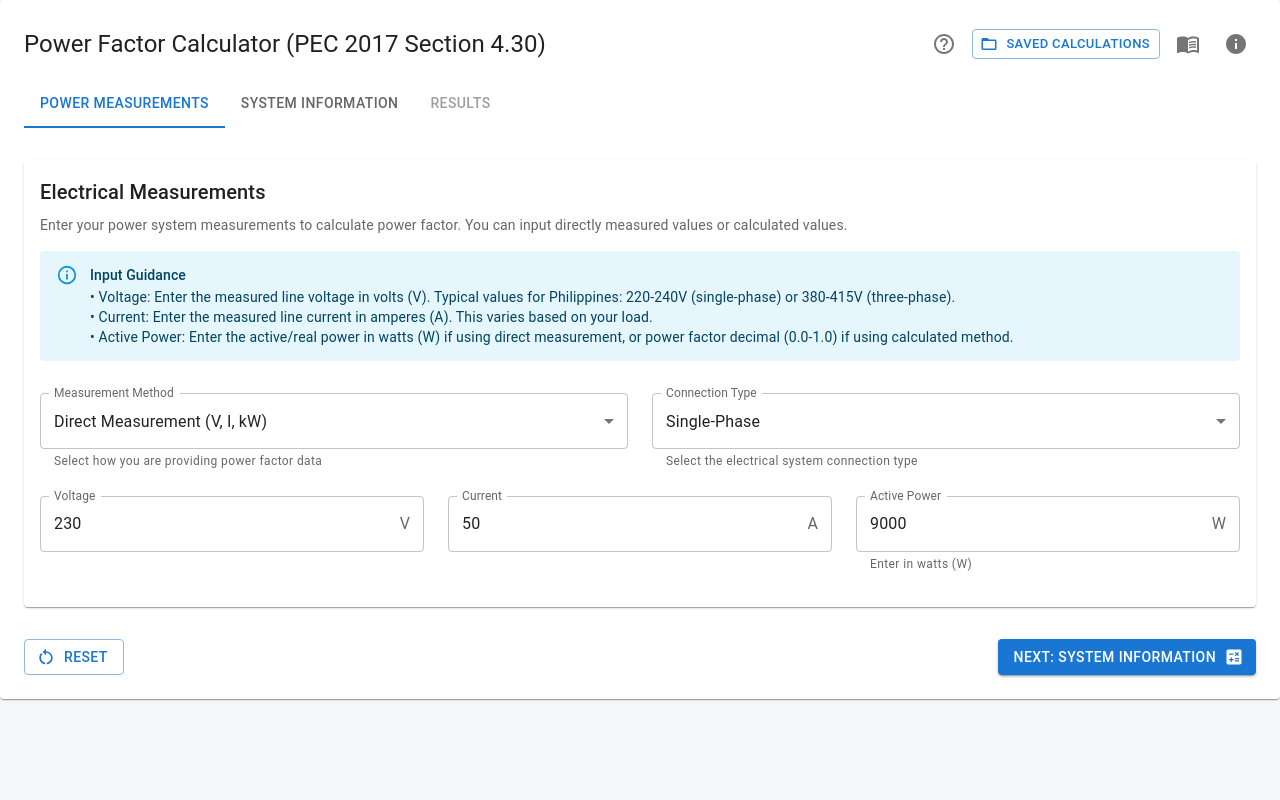
PowerFactorCalculator Component › resets calculator to default values
The width and height of the screenshot is (1280, 800).
# Change some values
Replace the text in the number field labelled "Voltage" with "400" at (216, 524), box [40,496,392,552]
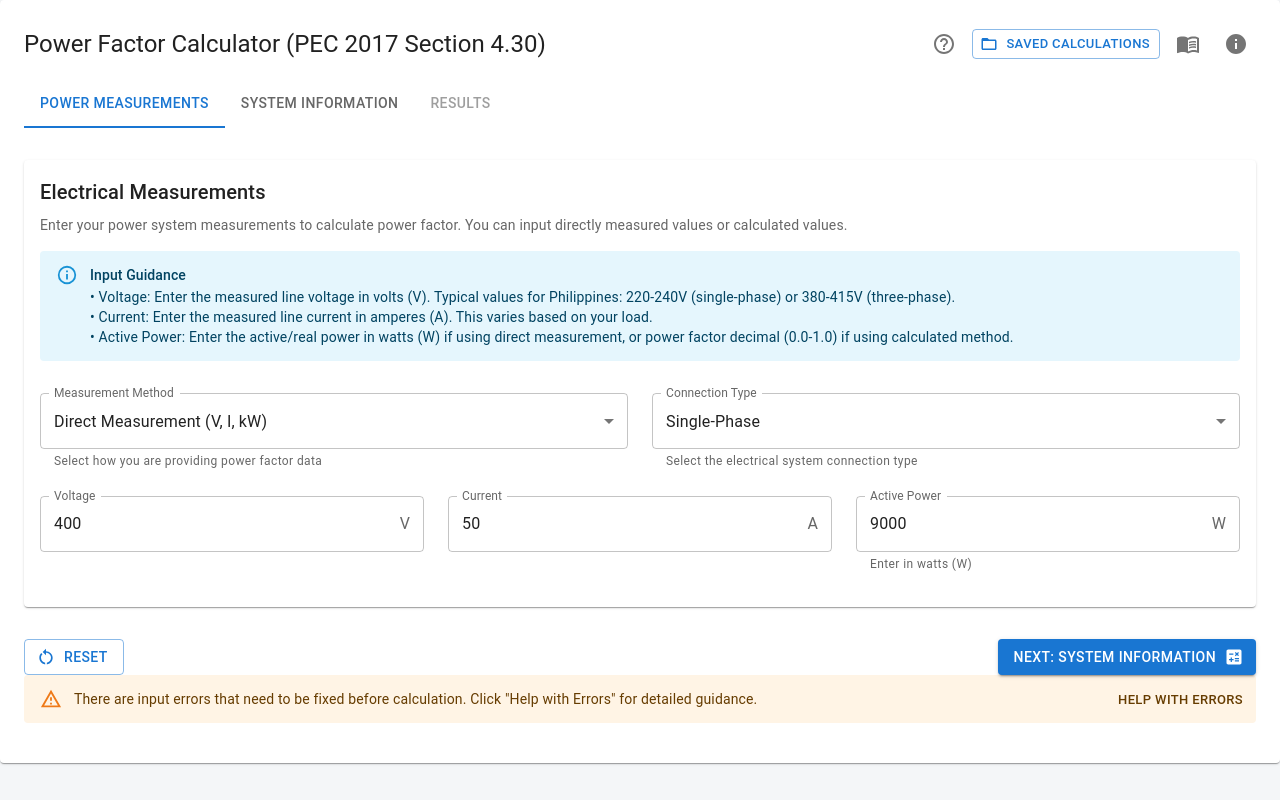
# Click reset button
Click the button "Reset" at (74, 657), box [24,639,124,675]
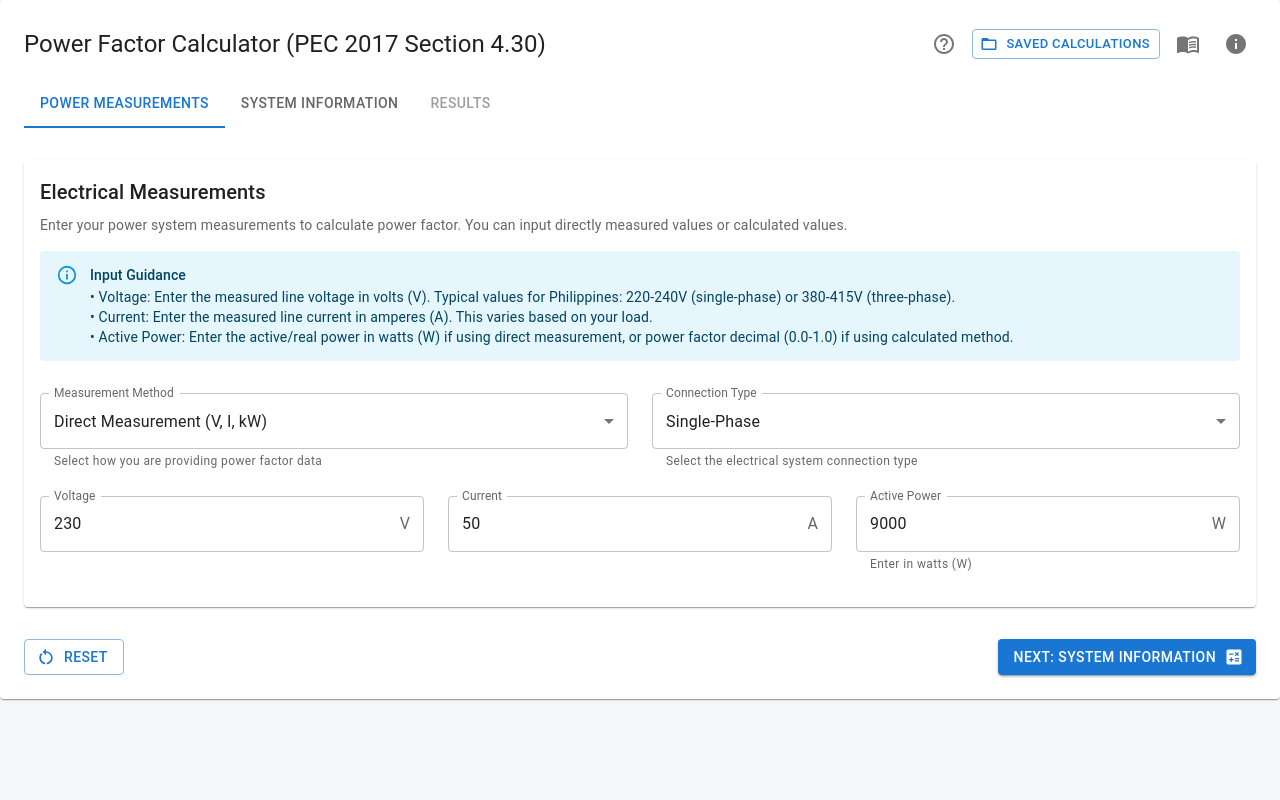
expect the number field labelled "Voltage" holds "230": met, box [40,496,392,552]
